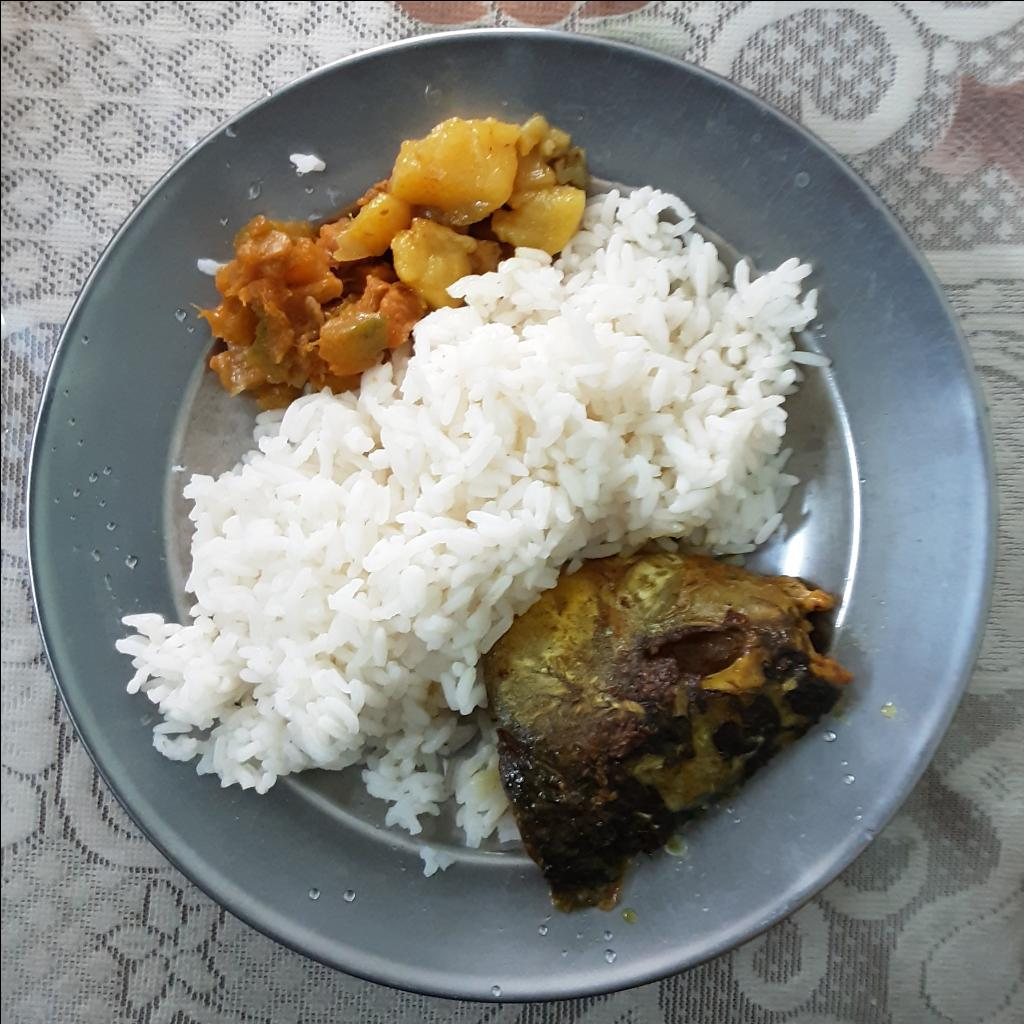fish: (483, 548, 852, 926)
kumra-vaji: (197, 211, 423, 413)
potato: (329, 113, 585, 298)
rice: (118, 178, 834, 856)
